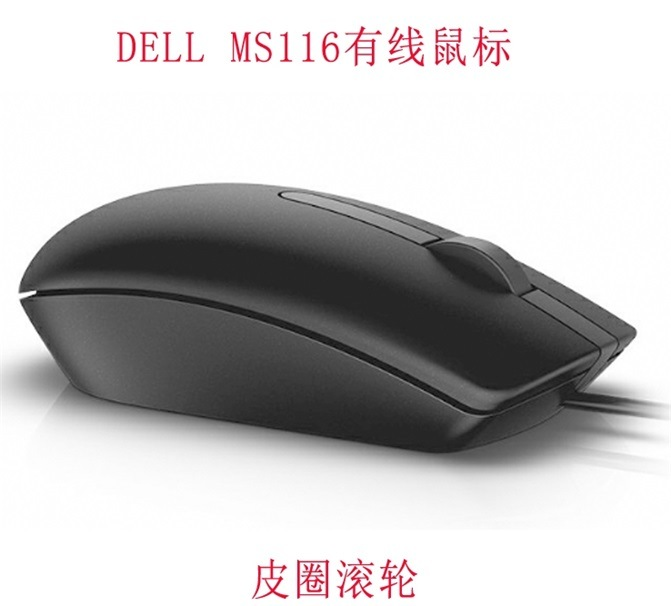dell-mouse-ms116: (17, 154, 664, 497)
